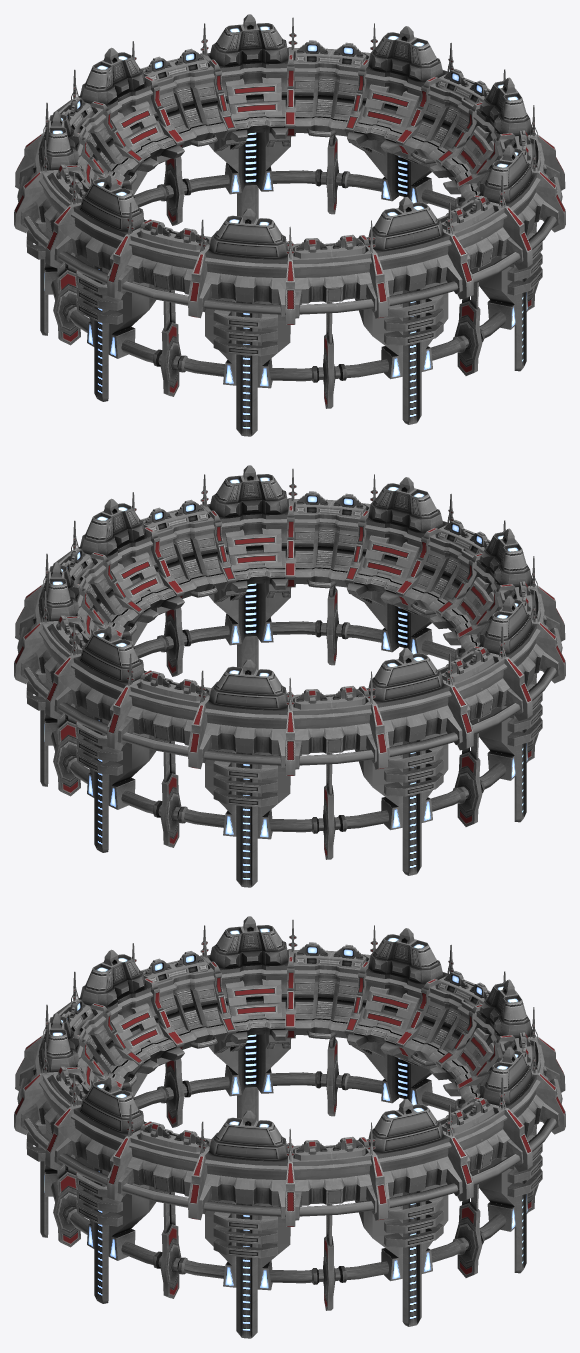
File: Star_Gate_Portal_02.glb
3 renders of one model, top to bottom at view 1: azimuth 30°, elevation 25°; view 2: azimuth 150°, elevation 25°; view 3: azimuth 270°, elevation 25°, orthographic.
Visible parts, largest first — view 1: Portal_2_0; view 2: Portal_2_0; view 3: Portal_2_0.
Part boxes in pixels (x1=…): Portal_2_0: x1=14, y1=14, x2=565, y2=436; Portal_2_0: x1=14, y1=465, x2=565, y2=887; Portal_2_0: x1=14, y1=916, x2=565, y2=1338.
Bounding box in the file's own units: 29.42 × 12.88 × 29.11.
Materials: 1 (1 with a texture image).
